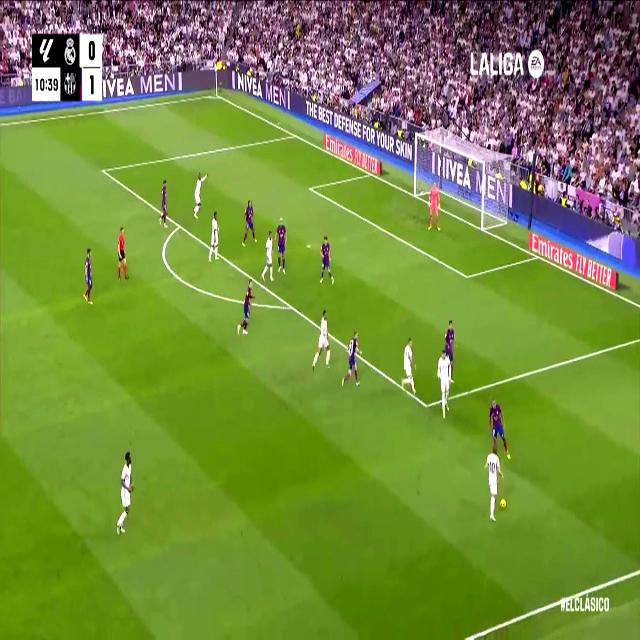bigarea_bottom_inner: (421, 393, 431, 418)
bigarea_top_inner: (100, 162, 106, 178)
bigarea_top_outter: (290, 127, 298, 141)
bottom_arc_area_intersection: (286, 297, 296, 315)
corner: (212, 90, 220, 100)
top_arc_area_intersection: (177, 220, 182, 232)
